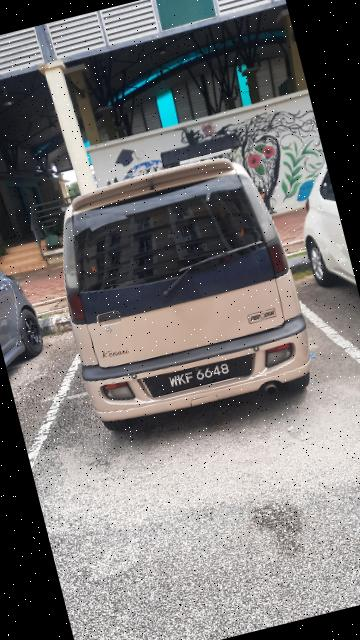License_Plate: (134, 344, 264, 410)
car: (30, 127, 338, 452)
